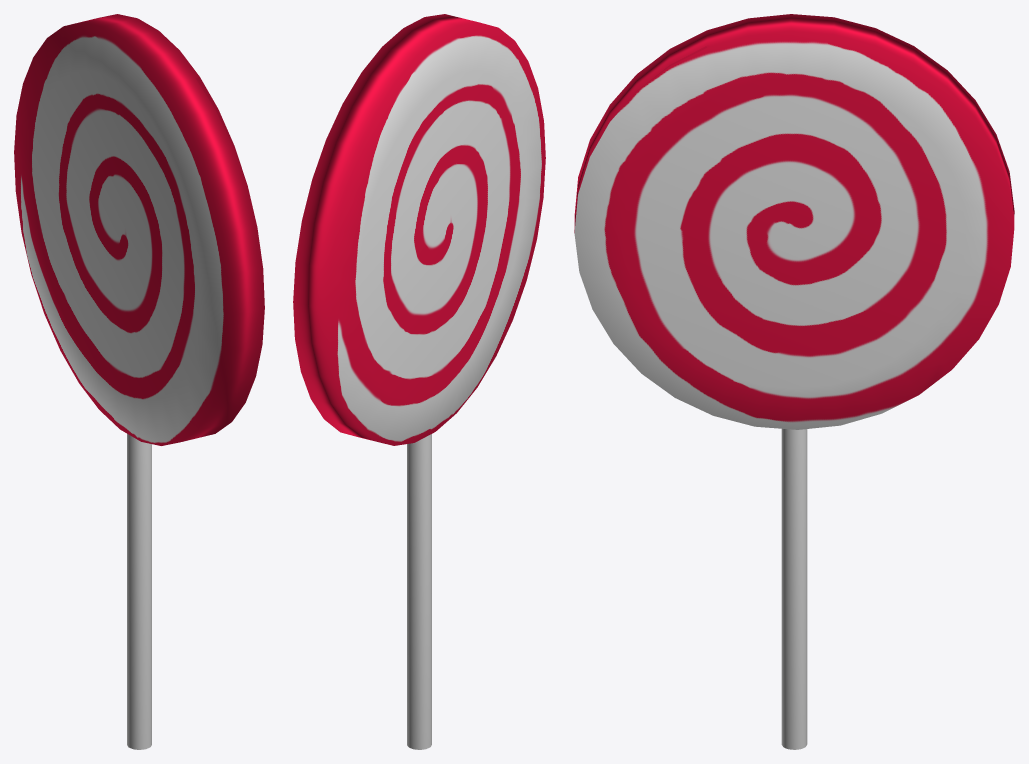
The model's file is lolipo.fbx.
3 views of the same model, side by side, from view 1: azimuth 30°, elevation 25°; view 2: azimuth 150°, elevation 25°; view 3: azimuth 270°, elevation 25° (orthographic).
Visible parts, largest first — view 1: Cylinder, Cylinder.001; view 2: Cylinder, Cylinder.001; view 3: Cylinder, Cylinder.001.
Boxes of the visible parts, x1,y1,x2,y2 form: Cylinder: (14, 14, 264, 445); Cylinder.001: (127, 434, 151, 749); Cylinder: (293, 14, 545, 445); Cylinder.001: (407, 434, 431, 749); Cylinder: (574, 14, 1014, 429); Cylinder.001: (781, 428, 807, 749).
Size of the model in its own units: 90.14 by 1333 by 736.
